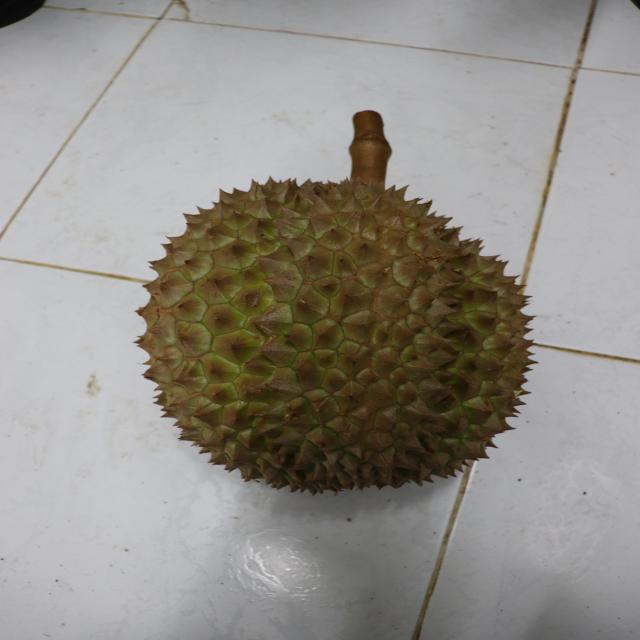mature: (141, 176, 544, 494)
